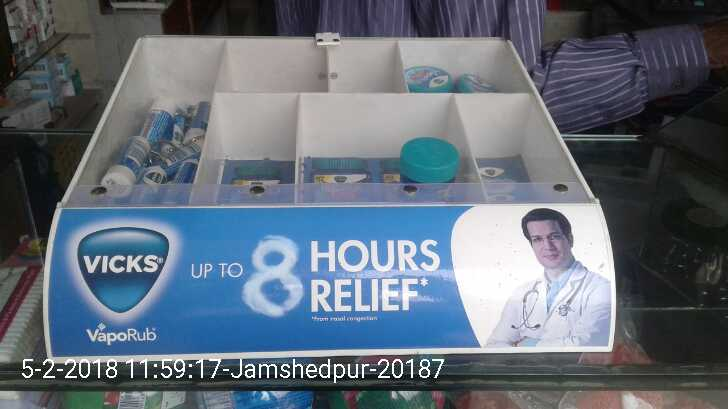vicks: (394, 130, 461, 199), (102, 133, 150, 203), (131, 91, 174, 143), (404, 61, 456, 91), (461, 66, 499, 98)
